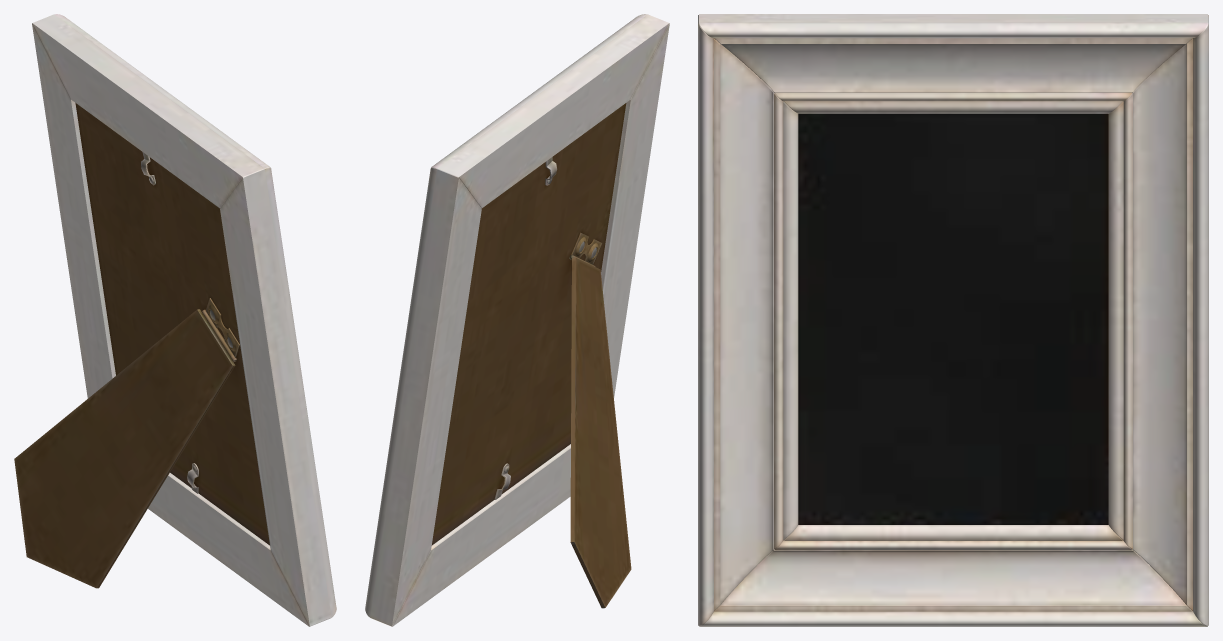
The model's file is standing_picture_frame_02.l.eac43346.glb.
3 renders of one model, left to right at view 1: azimuth 30°, elevation 25°; view 2: azimuth 150°, elevation 25°; view 3: azimuth 270°, elevation 25°, orthographic. The views are drawn at different scales.
Parts seen in each view (by area): view 1: standing_picture_frame_02; view 2: standing_picture_frame_02; view 3: standing_picture_frame_02.
Boxes of the visible parts, <box> form: standing_picture_frame_02: <box>14,14,336,626</box>; standing_picture_frame_02: <box>365,14,669,626</box>; standing_picture_frame_02: <box>698,14,1208,626</box>.
Bounding box in the file's own units: 0.1023 × 0.2664 × 0.2169.
3 materials, 3 textured.
